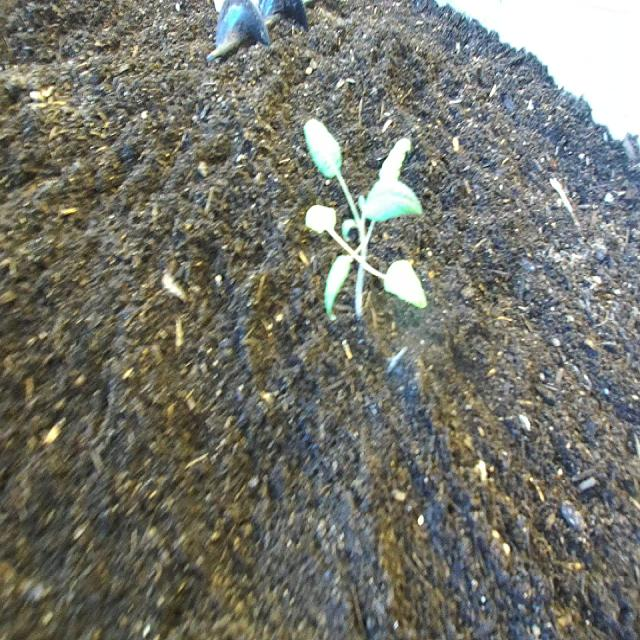Healthy: (298, 110, 432, 335)
